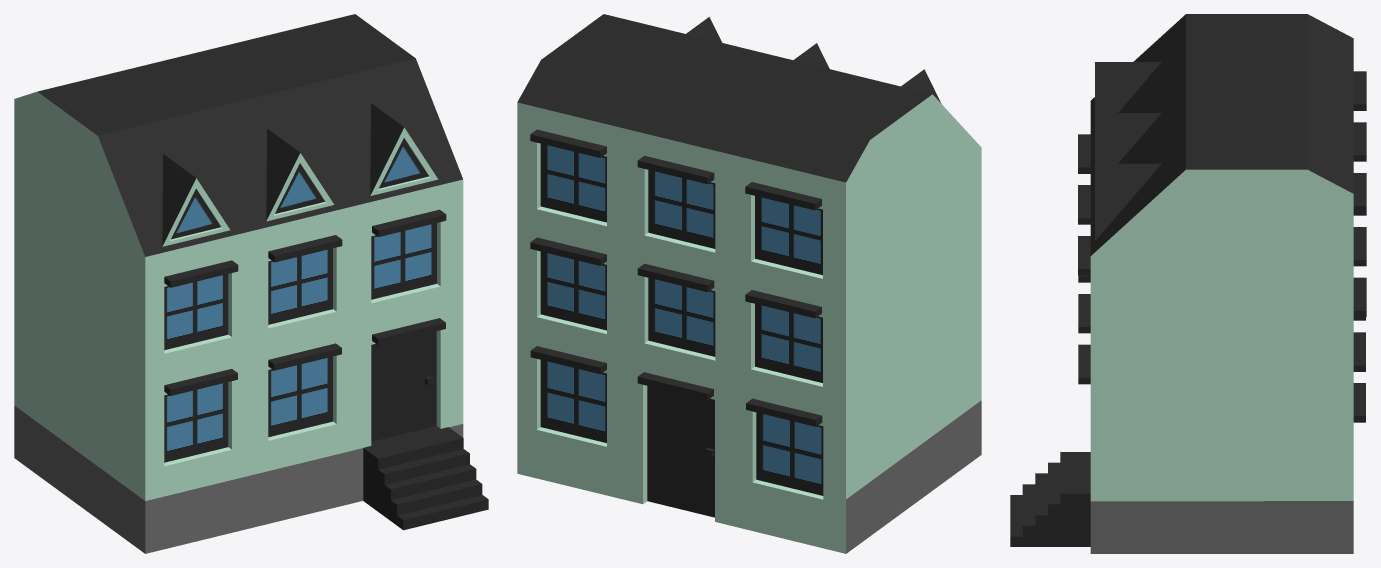
Rendered from NormalTriangleMint.obj.
3 renders of one model, left to right at view 1: azimuth 30°, elevation 25°; view 2: azimuth 150°, elevation 25°; view 3: azimuth 270°, elevation 25°, orthographic. The views are drawn at different scales.
Parts seen in each view (by area): view 1: ZwyklayTrojkatMIetowy; view 2: ZwyklayTrojkatMIetowy; view 3: ZwyklayTrojkatMIetowy.
Part boxes in pixels (bbox=[...]): ZwyklayTrojkatMIetowy: bbox=[14, 14, 488, 553]; ZwyklayTrojkatMIetowy: bbox=[517, 14, 981, 553]; ZwyklayTrojkatMIetowy: bbox=[1010, 14, 1366, 553].
Size of the model in its own units: 7 by 8.07 by 6.78.
